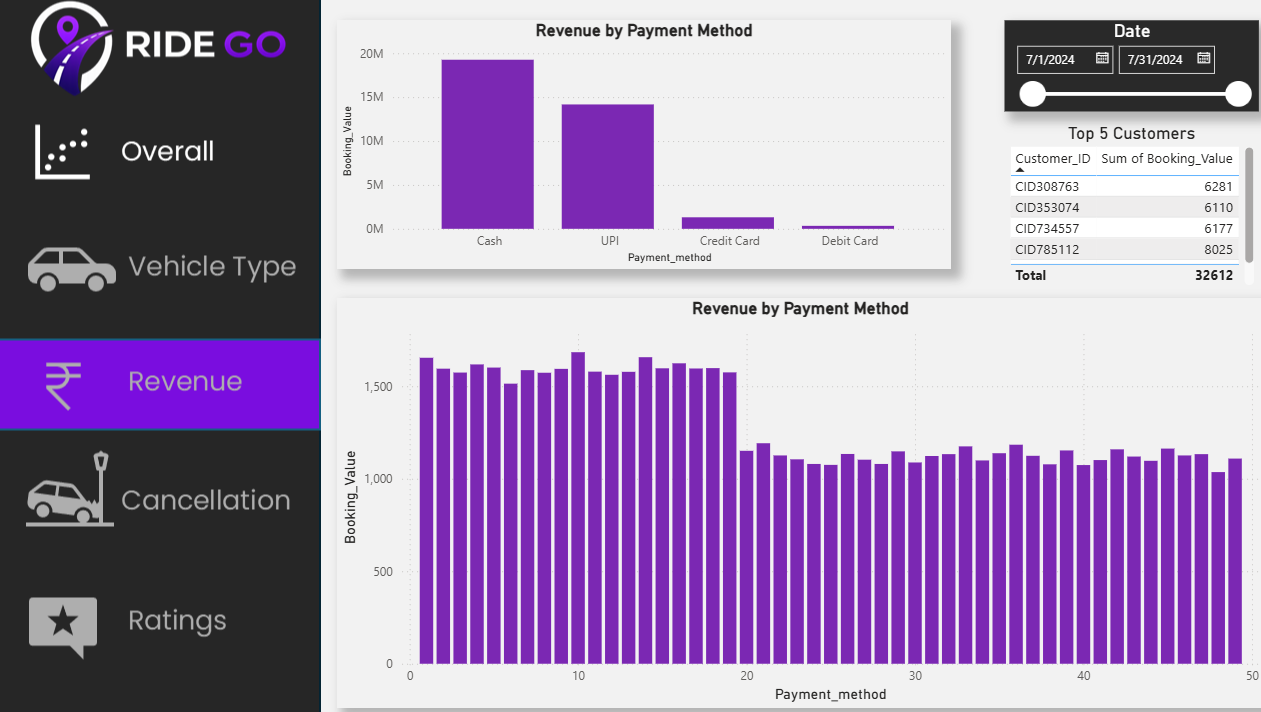

This screenshot's page, from the dashboard's own definition file:
{"tool":"powerbi","page":{"name":"Revenue","canvas":[1280,720],"ordinal":2},"visuals":[{"type":"actionButton","box":[0,223.3,325,93.3],"z":0},{"type":"actionButton","box":[0,441.7,326.7,110],"z":1000},{"type":"actionButton","box":[0,566.7,325,120],"z":2000},{"type":"actionButton","box":[0,103.3,325,93.3],"z":3000},{"type":"columnChart","title":"Revenue by Payment Method","fields":{"Y":["Sum(Bookings.Booking_Value)"],"Category":["Bookings.Payment_Method"]},"box":[340,21.4,614.3,248.6],"z":4000},{"type":"columnChart","title":"Revenue by Payment Method","fields":{"Category":["Bookings.Ride_Distance"],"Y":["CountNonNull(Bookings.Date)"]},"box":[340,298.6,927.1,410],"z":5000},{"type":"slicer","title":"Date","fields":{"Values":["Bookings.Date"]},"box":[1007.1,21.4,254.3,91.4],"z":6000},{"type":"tableEx","title":"Top 5 Customers","fields":{"Values":["Bookings.Customer_ID","Sum(Bookings.Booking_Value)"]},"box":[1007.1,124.3,254.3,167.1],"z":7000}]}

Visuals, with their boxes in screenshot pixels (x1, y1, x2, y2), scaled from the page's 1280x720 canvas onto the 1261x712 screenshot:
actionButton: x1=0, y1=221, x2=320, y2=313
actionButton: x1=0, y1=437, x2=322, y2=546
actionButton: x1=0, y1=560, x2=320, y2=679
actionButton: x1=0, y1=102, x2=320, y2=194
"Revenue by Payment Method" columnChart: x1=335, y1=21, x2=940, y2=267
"Revenue by Payment Method" columnChart: x1=335, y1=295, x2=1248, y2=701
"Date" slicer: x1=992, y1=21, x2=1243, y2=112
"Top 5 Customers" tableEx: x1=992, y1=123, x2=1243, y2=288
